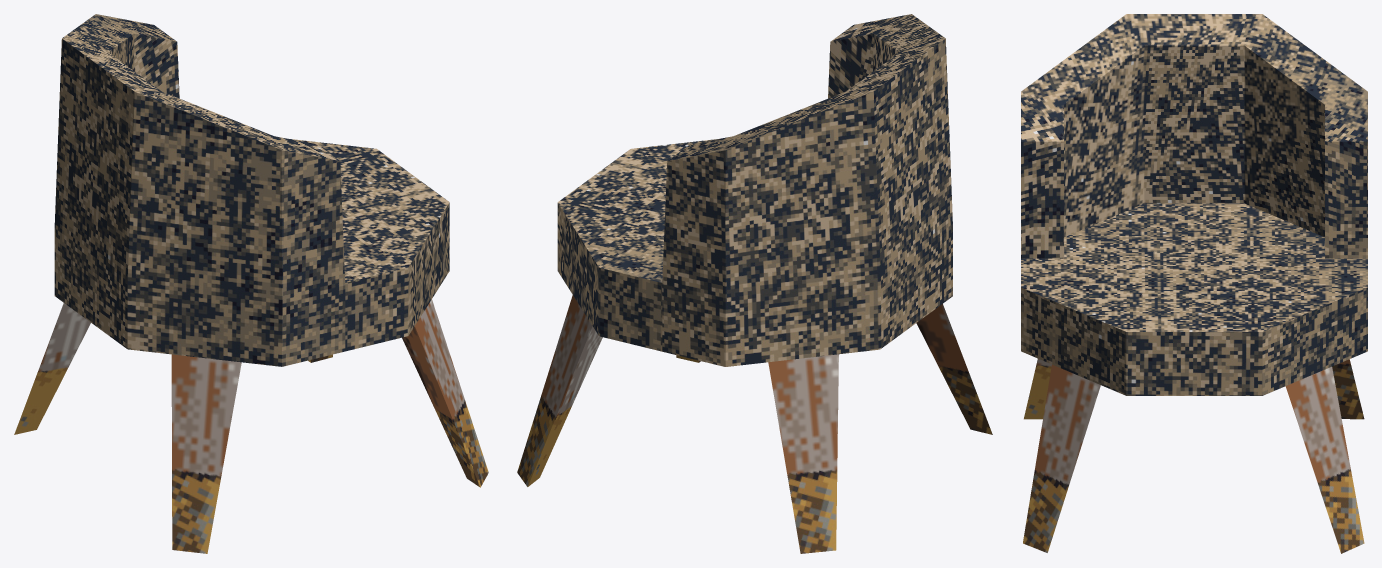
File: SM_Chair.fbx
The picture shows the model from 3 angles, left to right: view 1: azimuth 30°, elevation 25°; view 2: azimuth 150°, elevation 25°; view 3: azimuth 270°, elevation 25°; orthographic projection. The views are drawn at different scales.
Parts seen in each view (by area): view 1: Cube.004; view 2: Cube.004; view 3: Cube.004.
Boxes of the visible parts, x1,y1,x2,y2 form: Cube.004: (14, 14, 488, 553); Cube.004: (517, 14, 992, 553); Cube.004: (1021, 14, 1367, 553).
Bounding box in the file's own units: 200 × 253 × 200.
